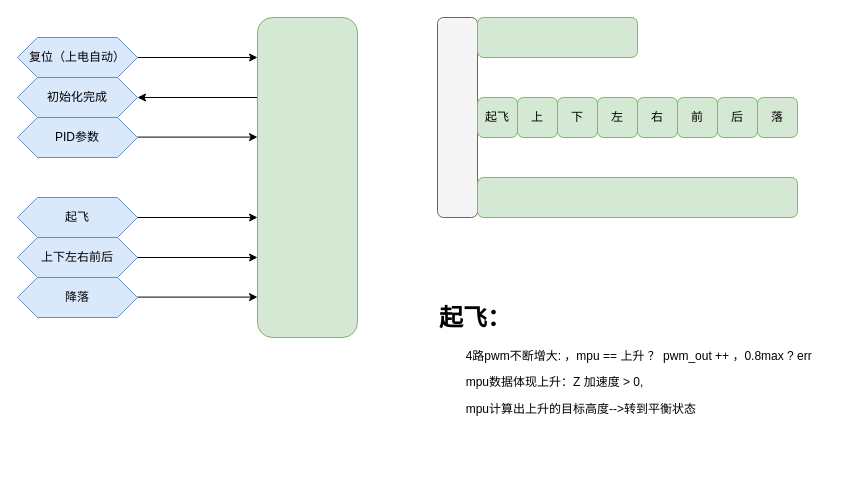
Some shapes in this 845 by 478 pixel diagram are drawn without their labels. Here are the shapes that lost their labels. From the top down, the centre of each, then its label:
the point at 557,37: IDLE
the point at 457,117: PID
the point at 307,177: 命令管理器
the point at 637,197: 平衡
